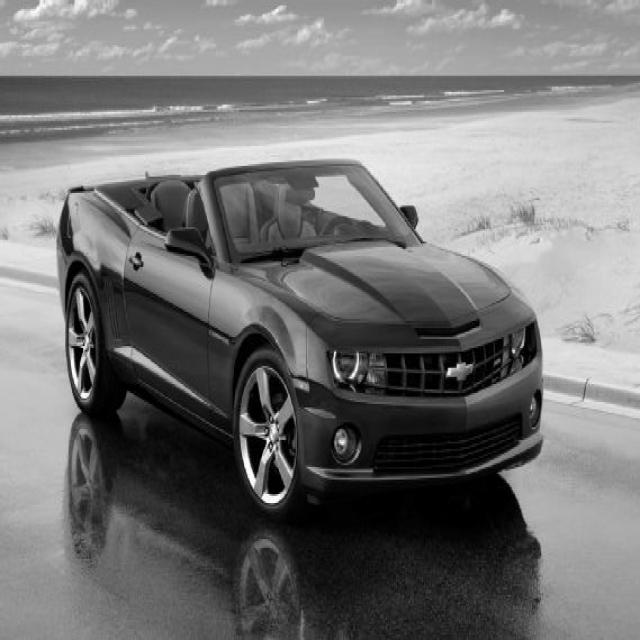car: (55, 155, 545, 521)
